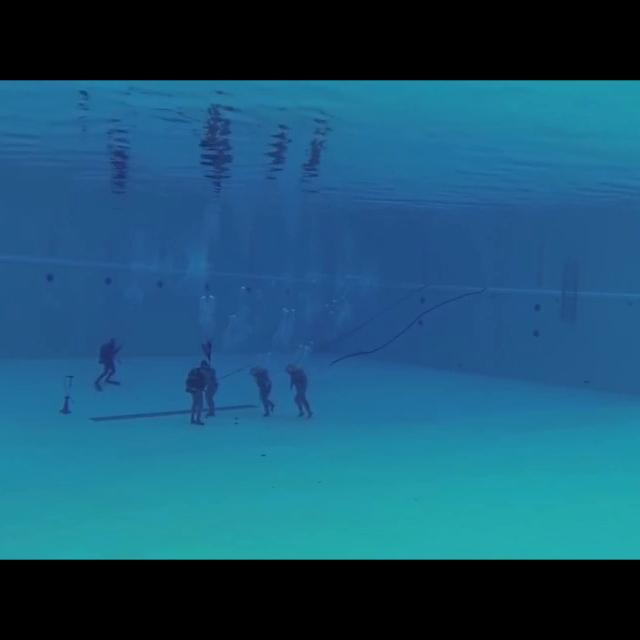human: (279, 359, 319, 419), (90, 331, 128, 393), (245, 362, 280, 422), (181, 359, 211, 426), (195, 355, 222, 422)
